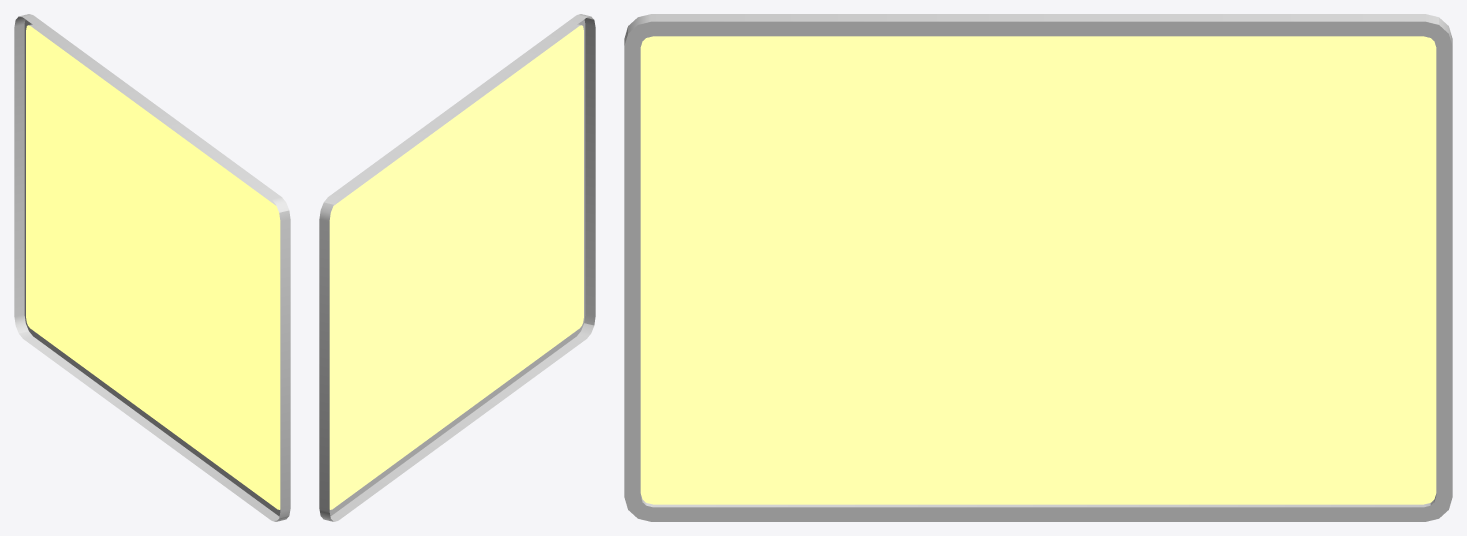
Rendered from Advert Sign Horizontal.fbx.
3 views of the same model, side by side, from view 1: azimuth 30°, elevation 25°; view 2: azimuth 150°, elevation 25°; view 3: azimuth 270°, elevation 25° (orthographic). The views are drawn at different scales.
Parts seen in each view (by area): view 1: Plane; view 2: Plane; view 3: Plane.
Boxes of the visible parts, <box> form: Plane: <box>14,14,290,521</box>; Plane: <box>319,14,595,521</box>; Plane: <box>624,14,1452,521</box>.
Size of the model in its own units: 0.0271 by 0.8217 by 1.23.
